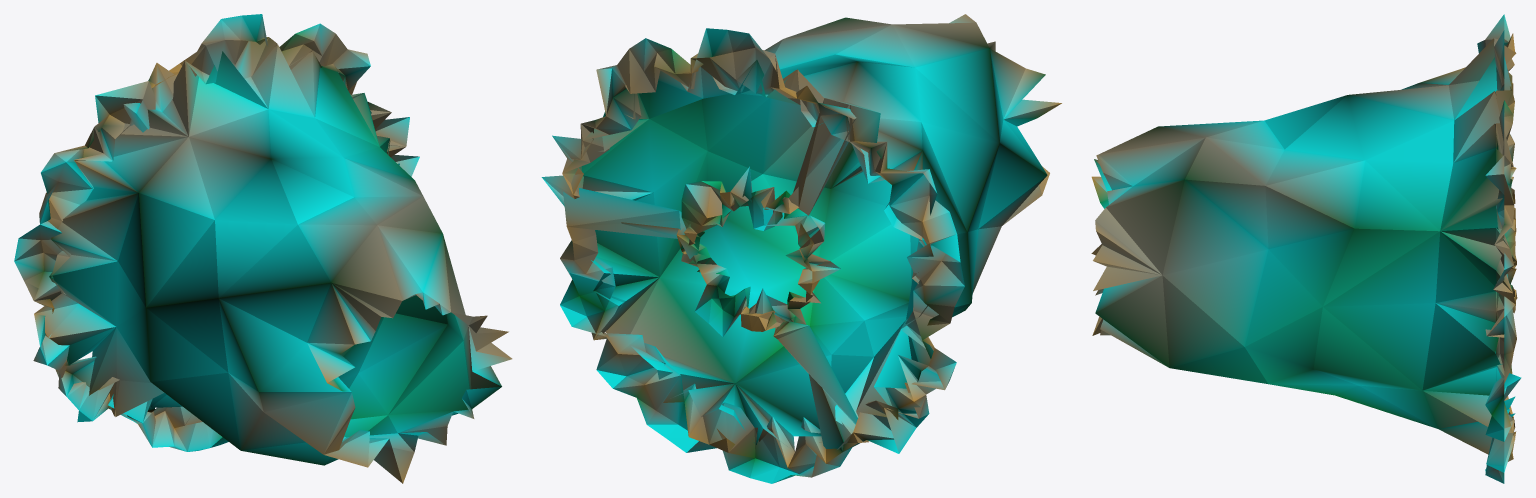
The model's file is lamp_shade_2_final400.obj.
3 renders of one model, left to right at view 1: azimuth 30°, elevation 25°; view 2: azimuth 150°, elevation 25°; view 3: azimuth 270°, elevation 25°, orthographic. The views are drawn at different scales.
Bounding box in the file's own units: 1.26 × 1.27 × 1.14.
